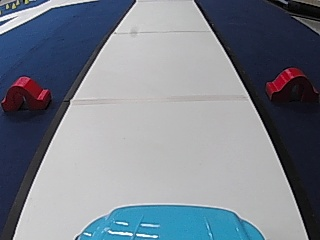bridge: (1, 73, 52, 114), (262, 64, 316, 102)
